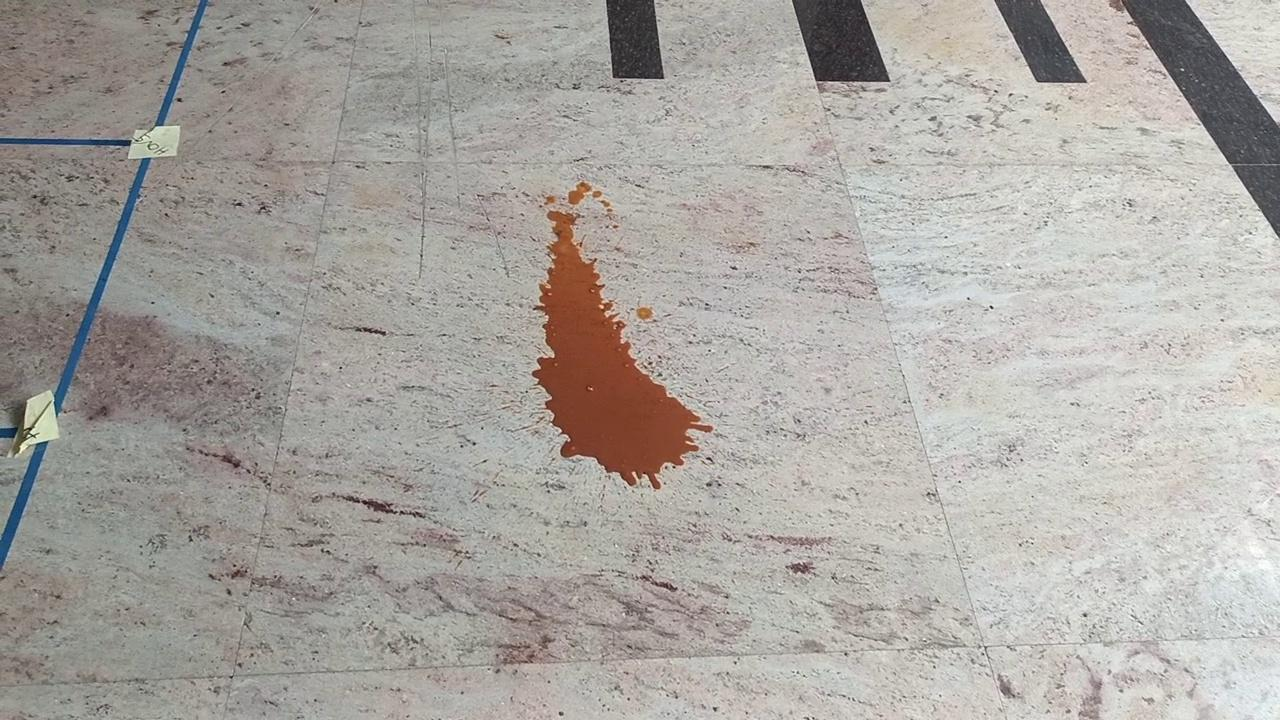dirty_floor: (536, 180, 711, 492)
